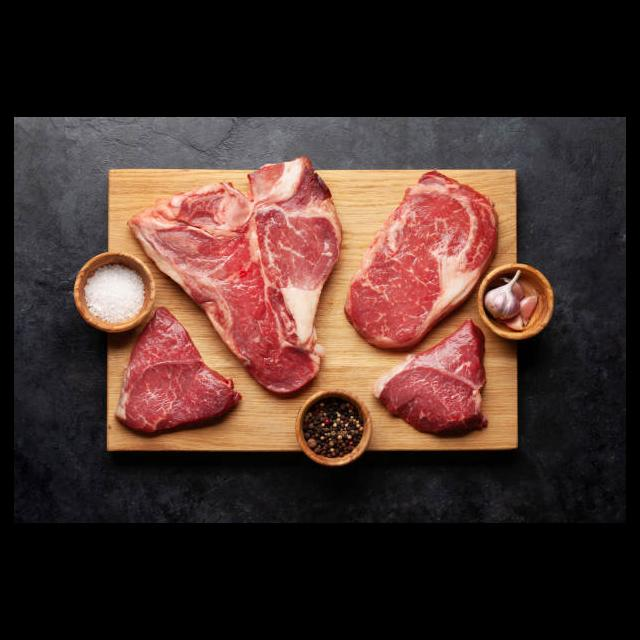beef: (132, 157, 341, 394), (344, 170, 498, 349), (113, 308, 240, 435), (373, 323, 487, 435)
